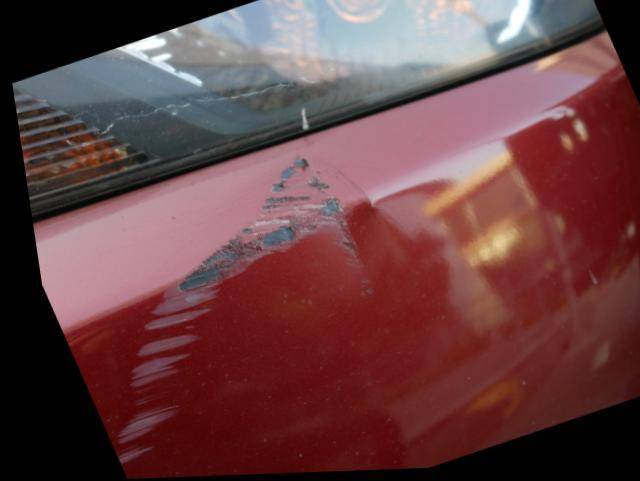scratch: (98, 150, 363, 473)
